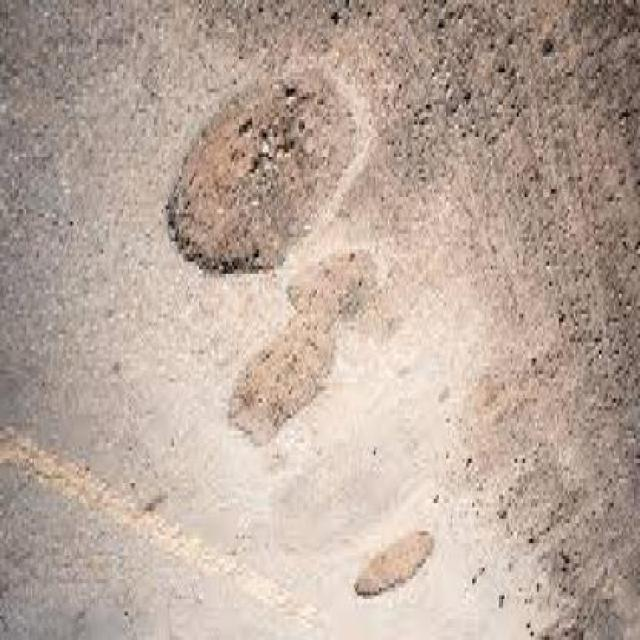pothole: (164, 68, 365, 290), (230, 250, 384, 458), (353, 527, 442, 608)
